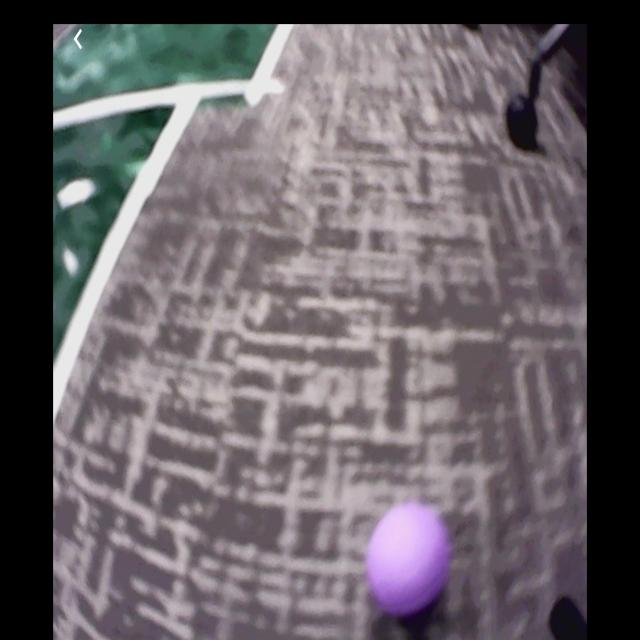ball: (371, 504, 446, 613)
